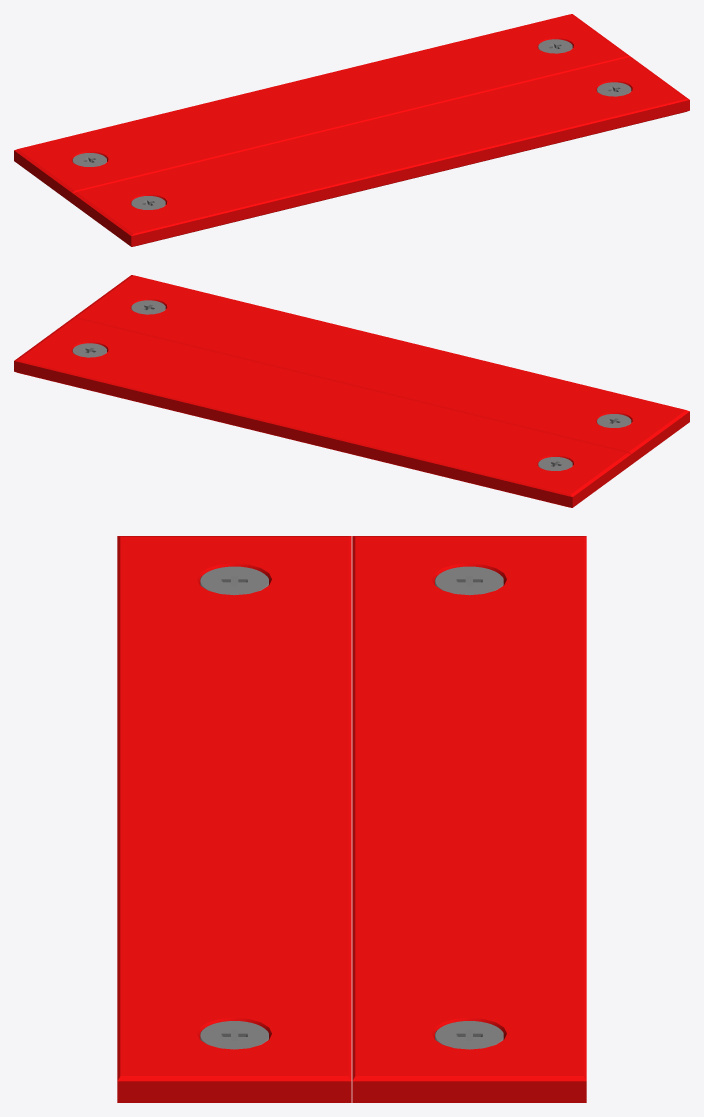
Rendered from DoubleBoltedPlankRed.fbx.
3 views of the same model, one above another, from view 1: azimuth 30°, elevation 25°; view 2: azimuth 150°, elevation 25°; view 3: azimuth 270°, elevation 25° (orthographic). The views are drawn at different scales.
Visible parts, largest first — view 1: Cube, Cube.001; view 2: Cube, Cube.001; view 3: Cube, Cube.001.
Part boxes in pixels (bbox=[...]): Cube: bbox=[14, 14, 689, 246]; Cube.001: bbox=[72, 39, 631, 209]; Cube: bbox=[14, 275, 689, 507]; Cube.001: bbox=[72, 300, 631, 470]; Cube: bbox=[117, 536, 586, 1102]; Cube.001: bbox=[200, 566, 503, 1049].
Bounding box in the file's own units: 21.97 × 0.4885 × 7.99.
